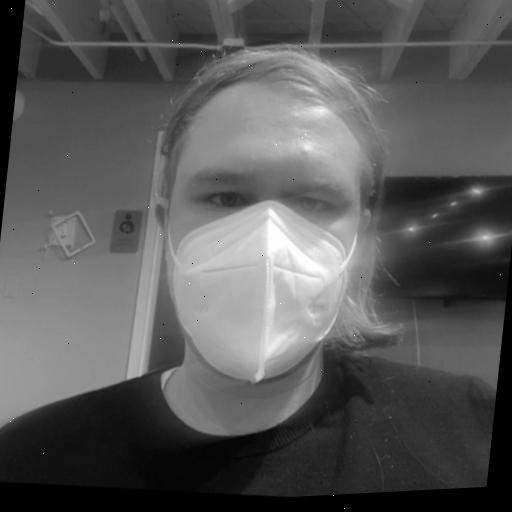mask: (90, 13, 436, 470)
